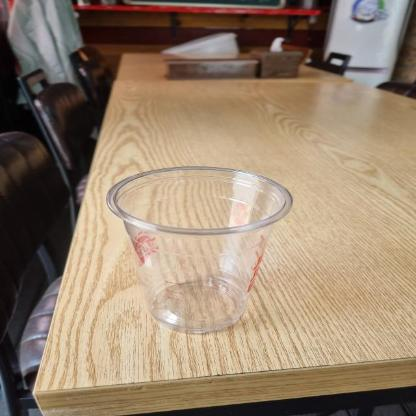Plastic Cup: (103, 159, 297, 337)
